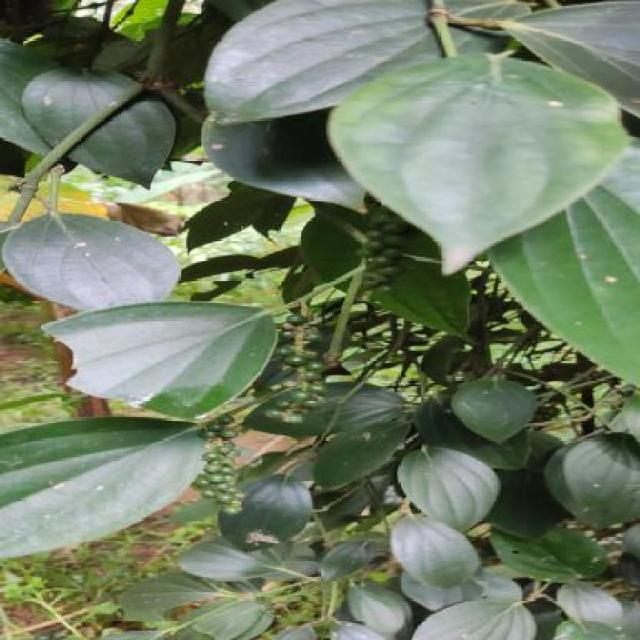UNRIPE: (195, 417, 248, 514), (277, 315, 321, 423), (359, 205, 406, 286)
